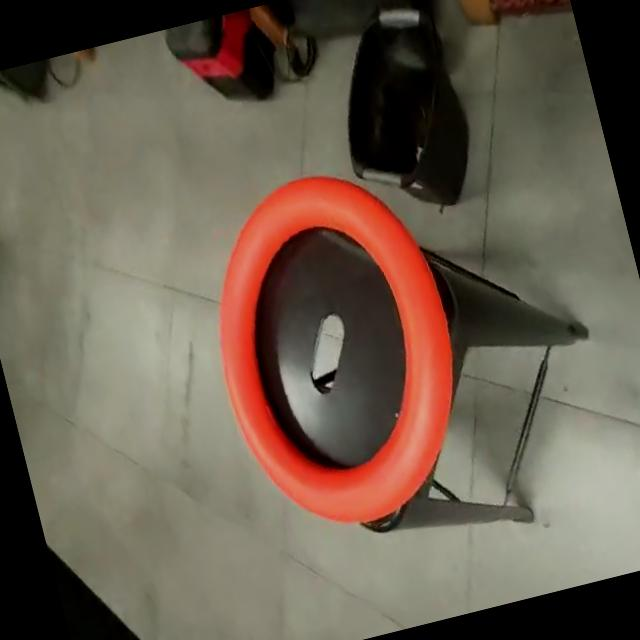note: (178, 151, 491, 546)
